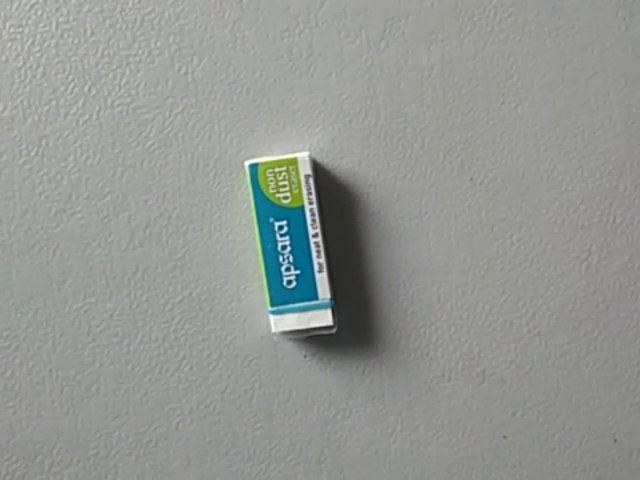Eraser: (242, 150, 342, 342)
